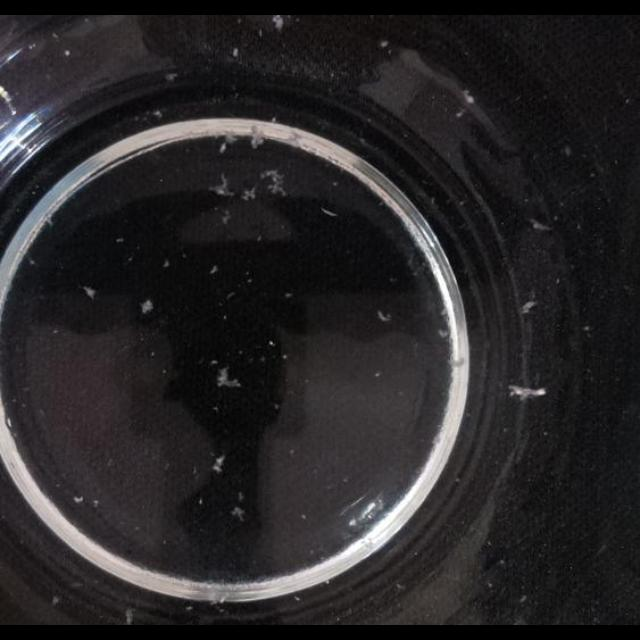Fibre: (259, 168, 287, 198), (210, 173, 237, 197), (248, 125, 268, 148), (530, 218, 552, 232), (82, 286, 96, 300), (272, 15, 284, 30), (463, 91, 475, 105)
microbeads: (216, 366, 242, 388), (211, 456, 225, 474), (521, 300, 537, 314), (140, 300, 154, 314), (378, 309, 392, 321), (220, 210, 232, 224), (437, 328, 449, 338), (218, 141, 228, 153), (152, 108, 164, 118), (562, 146, 572, 156), (456, 108, 466, 118), (439, 306, 448, 316), (163, 258, 171, 268), (226, 291, 236, 299), (73, 495, 83, 503), (519, 594, 527, 604), (52, 596, 60, 606), (107, 456, 115, 466), (379, 40, 388, 48), (582, 324, 592, 331), (374, 370, 382, 378), (284, 292, 292, 300), (209, 266, 217, 274), (288, 448, 296, 456), (28, 258, 36, 266), (396, 582, 404, 590), (232, 47, 238, 57), (268, 339, 276, 346), (255, 235, 262, 243), (300, 512, 306, 520), (116, 238, 124, 244), (92, 499, 98, 507), (198, 497, 204, 505), (282, 352, 288, 360), (294, 594, 300, 602), (64, 50, 70, 56)
